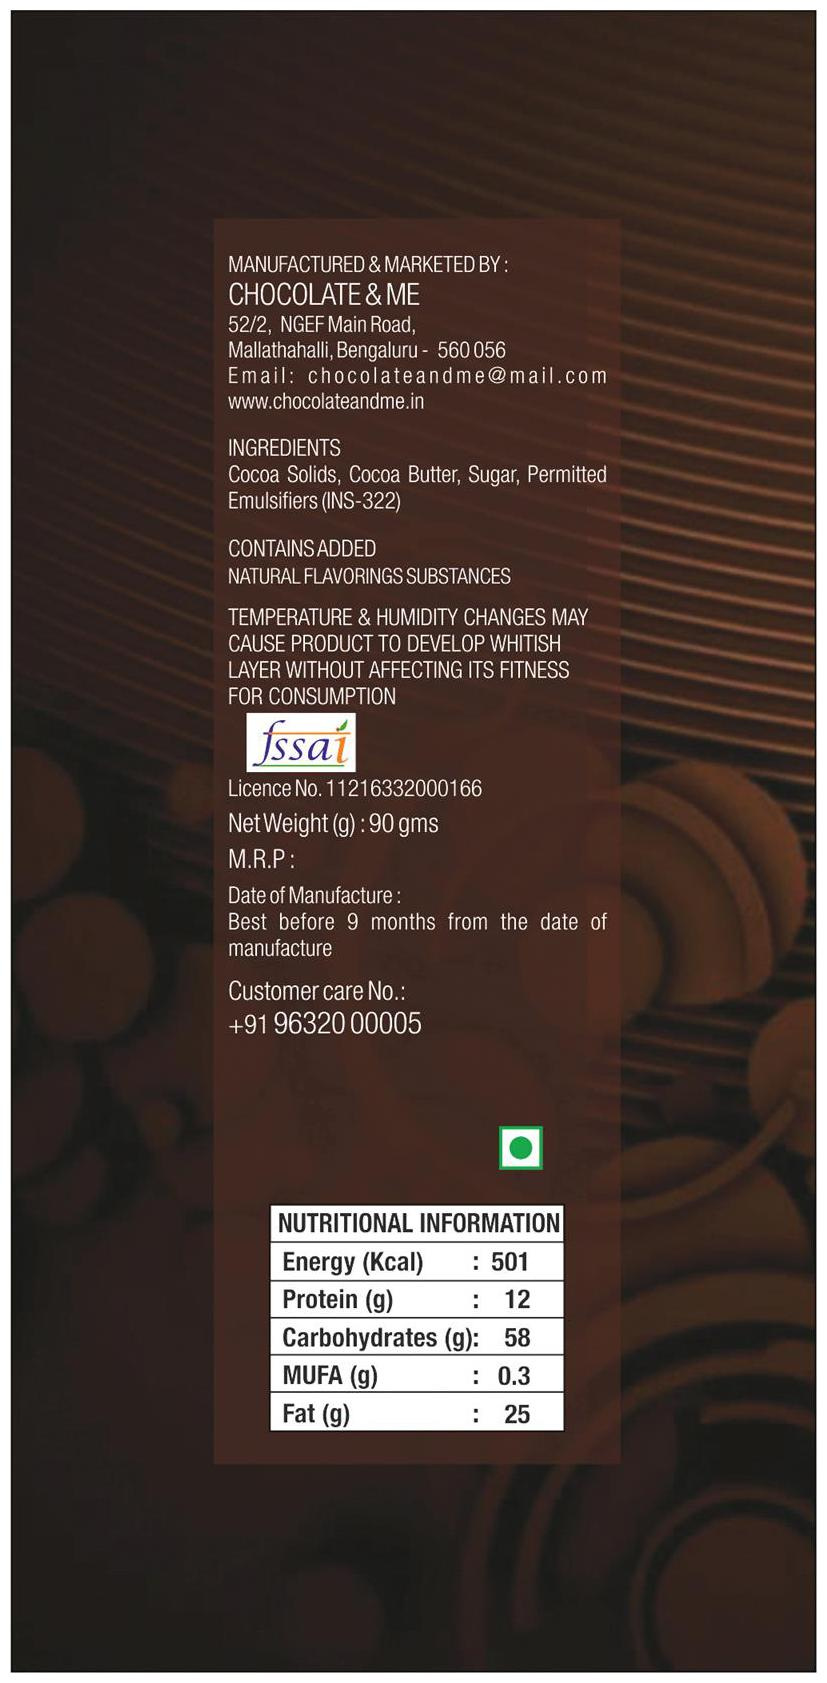fssai: (252, 718, 350, 769)
